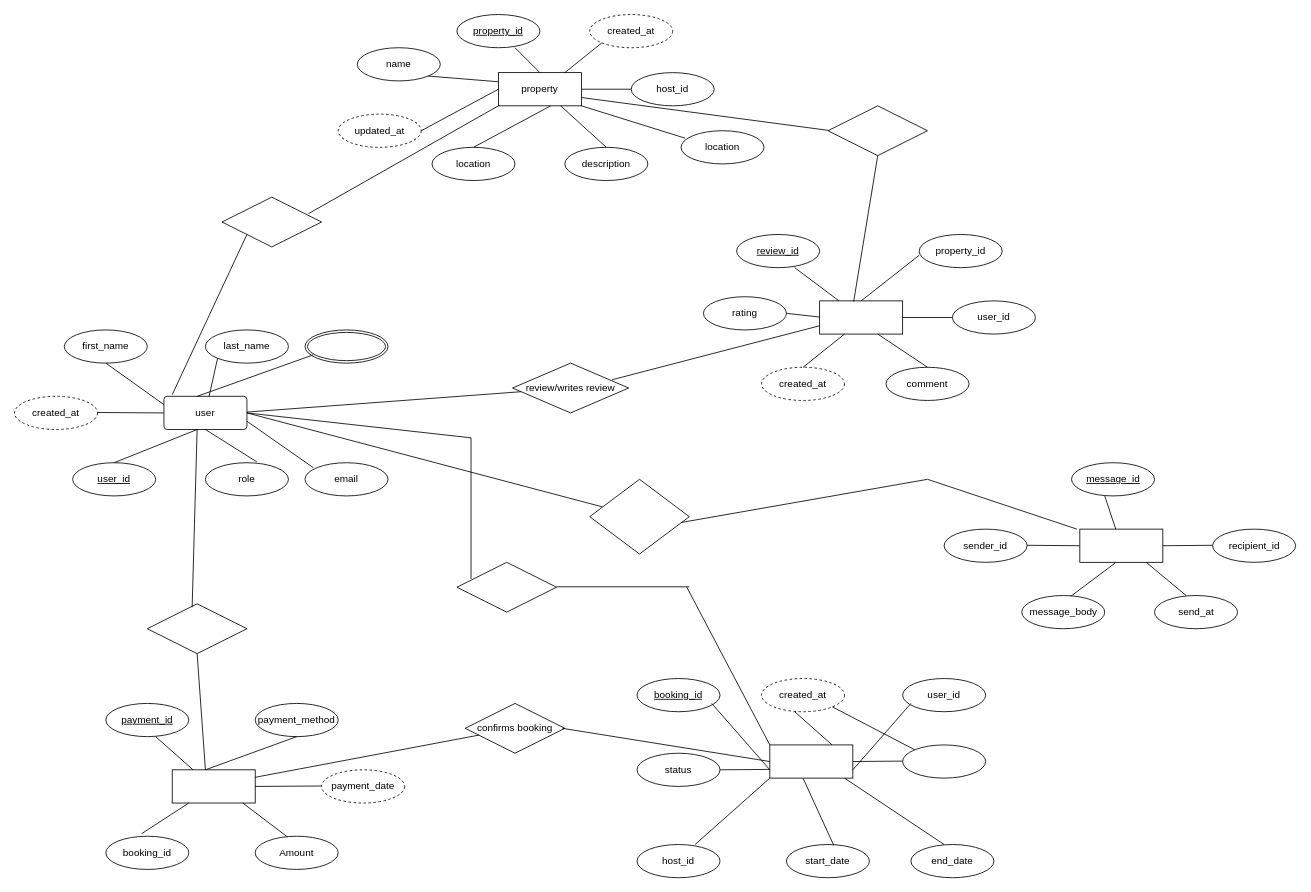
The diagram is 1311 pixels wide and 892 high, and some of its shapes have lost their labels. The shapes that lost their labels are listed below. From the top down, each one's box as (x1, y1, x2, y2) in pixels, then its label:
(827, 105, 928, 156): user sentiment
(221, 196, 322, 247): Books
(819, 300, 903, 334): review
(304, 329, 388, 363): phone_number
(589, 478, 689, 554): sends/receives message
(1079, 528, 1163, 562): Message
(456, 561, 557, 612): creates booking
(146, 603, 247, 654): Relationship
(769, 744, 853, 778): booking
(902, 744, 986, 778): total_price
(171, 769, 255, 803): payment
